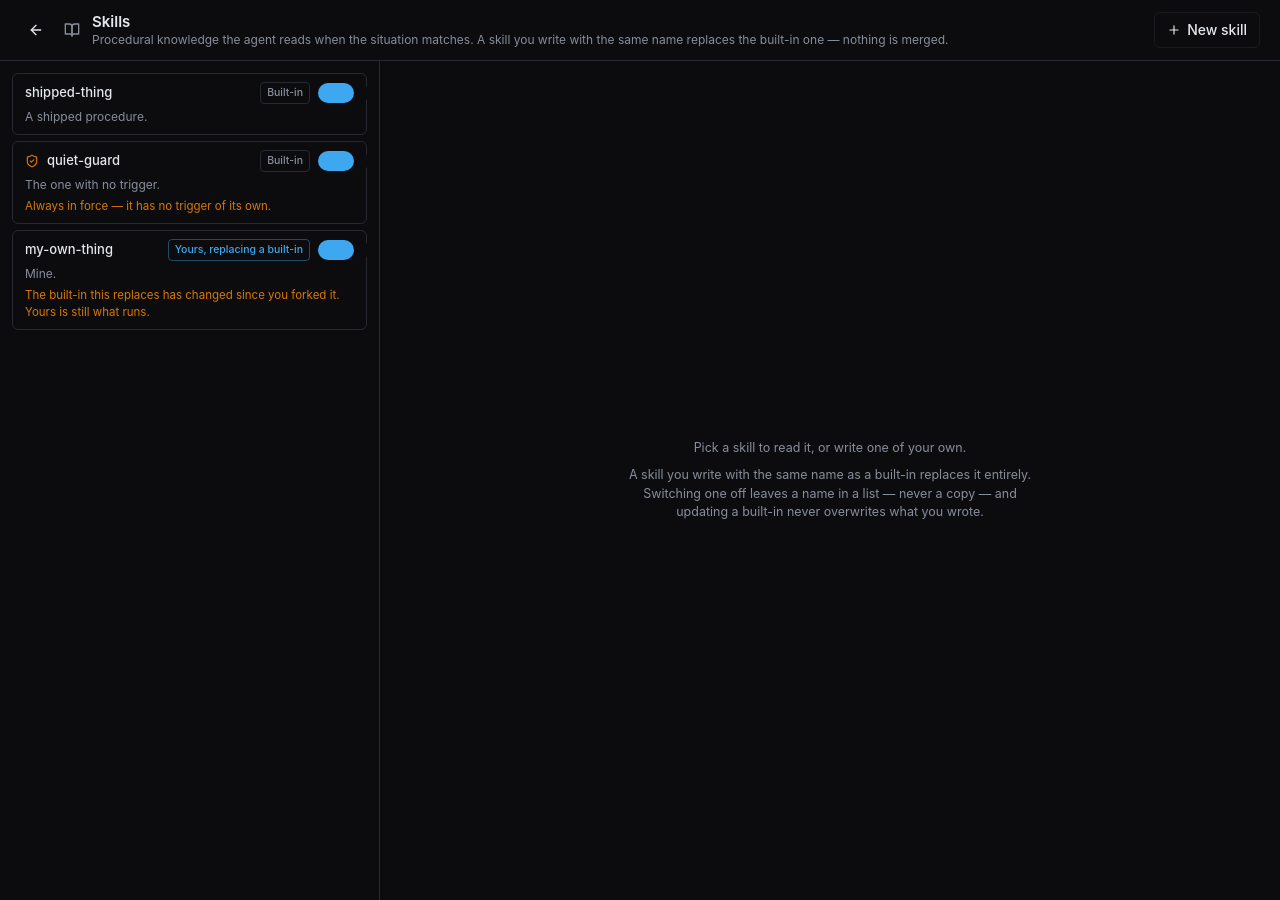
Test case: the Skills page › offers reset on a replacement and never on a built-in
Click the element with test id "skill-row-my-own-thing". click: (190,280)
box: x1=12 y1=230 x2=367 y2=330
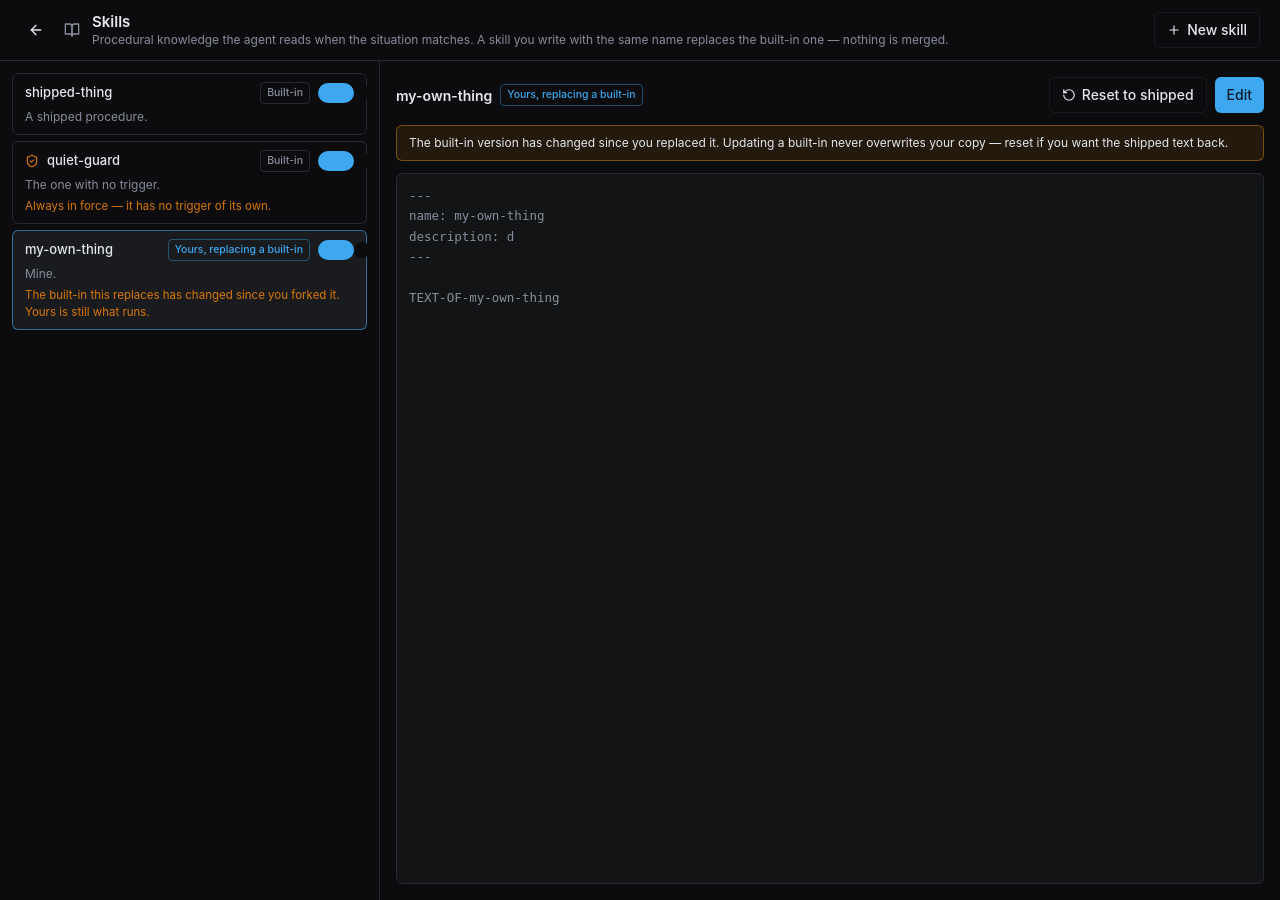
Now the button "Reset to shipped" is shown, box x1=1049 y1=77 x2=1207 y2=113
Click the element with test id "skill-row-shipped-thing". click: (190,104)
box: x1=12 y1=73 x2=367 y2=135
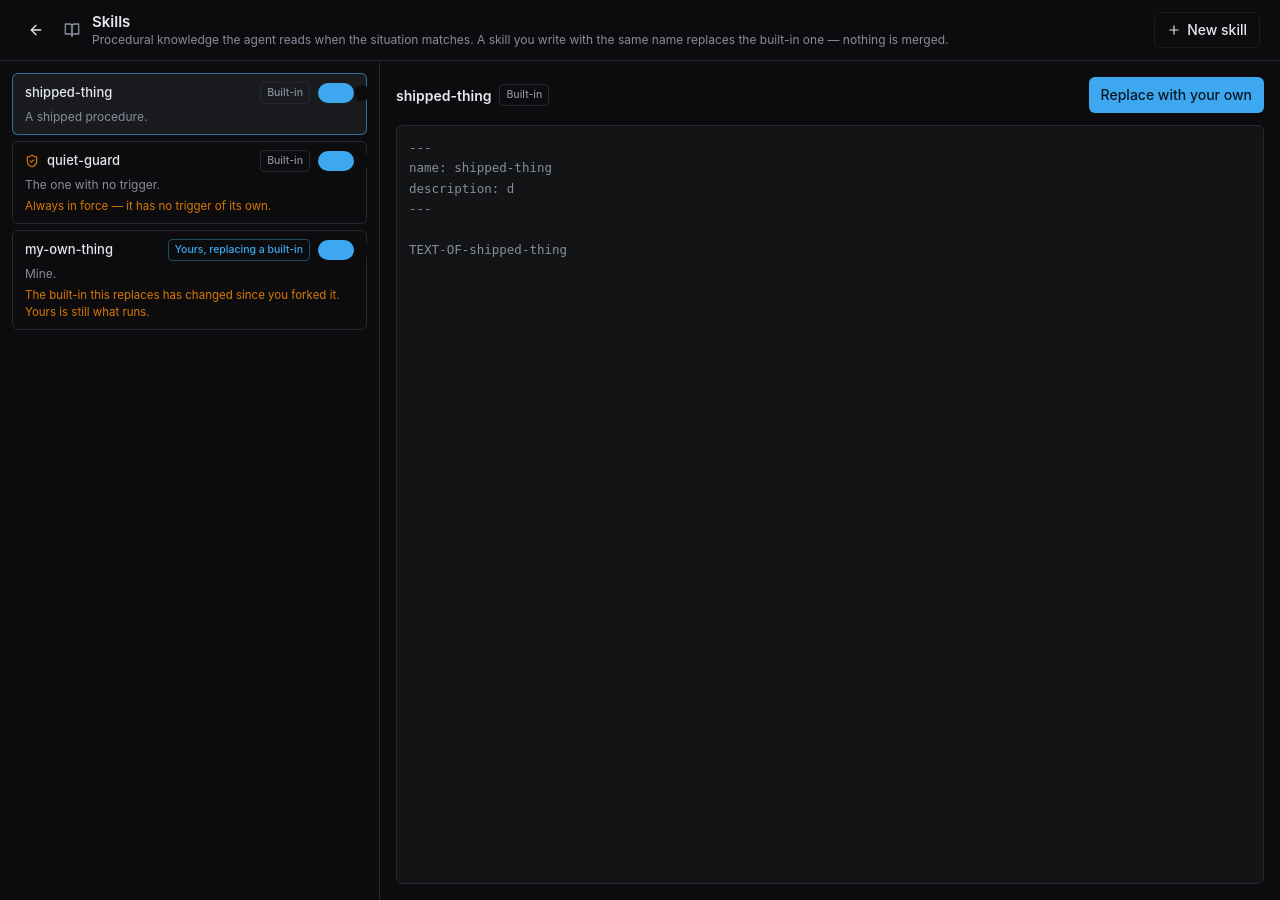
Now the button "Reset to shipped" is gone
Now the button "Replace with your own" is shown, box x1=1089 y1=77 x2=1264 y2=113
